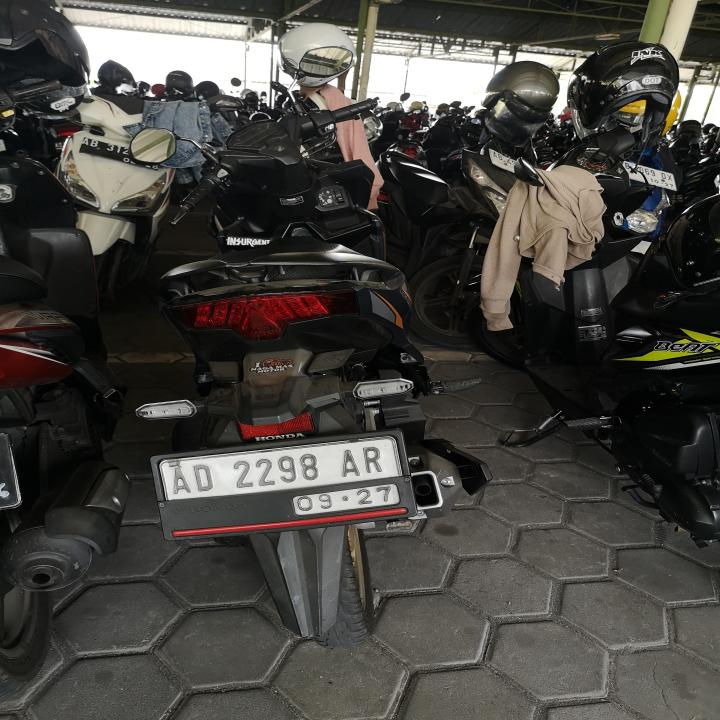plate: (156, 432, 408, 523), (79, 137, 159, 170), (622, 160, 678, 191)
